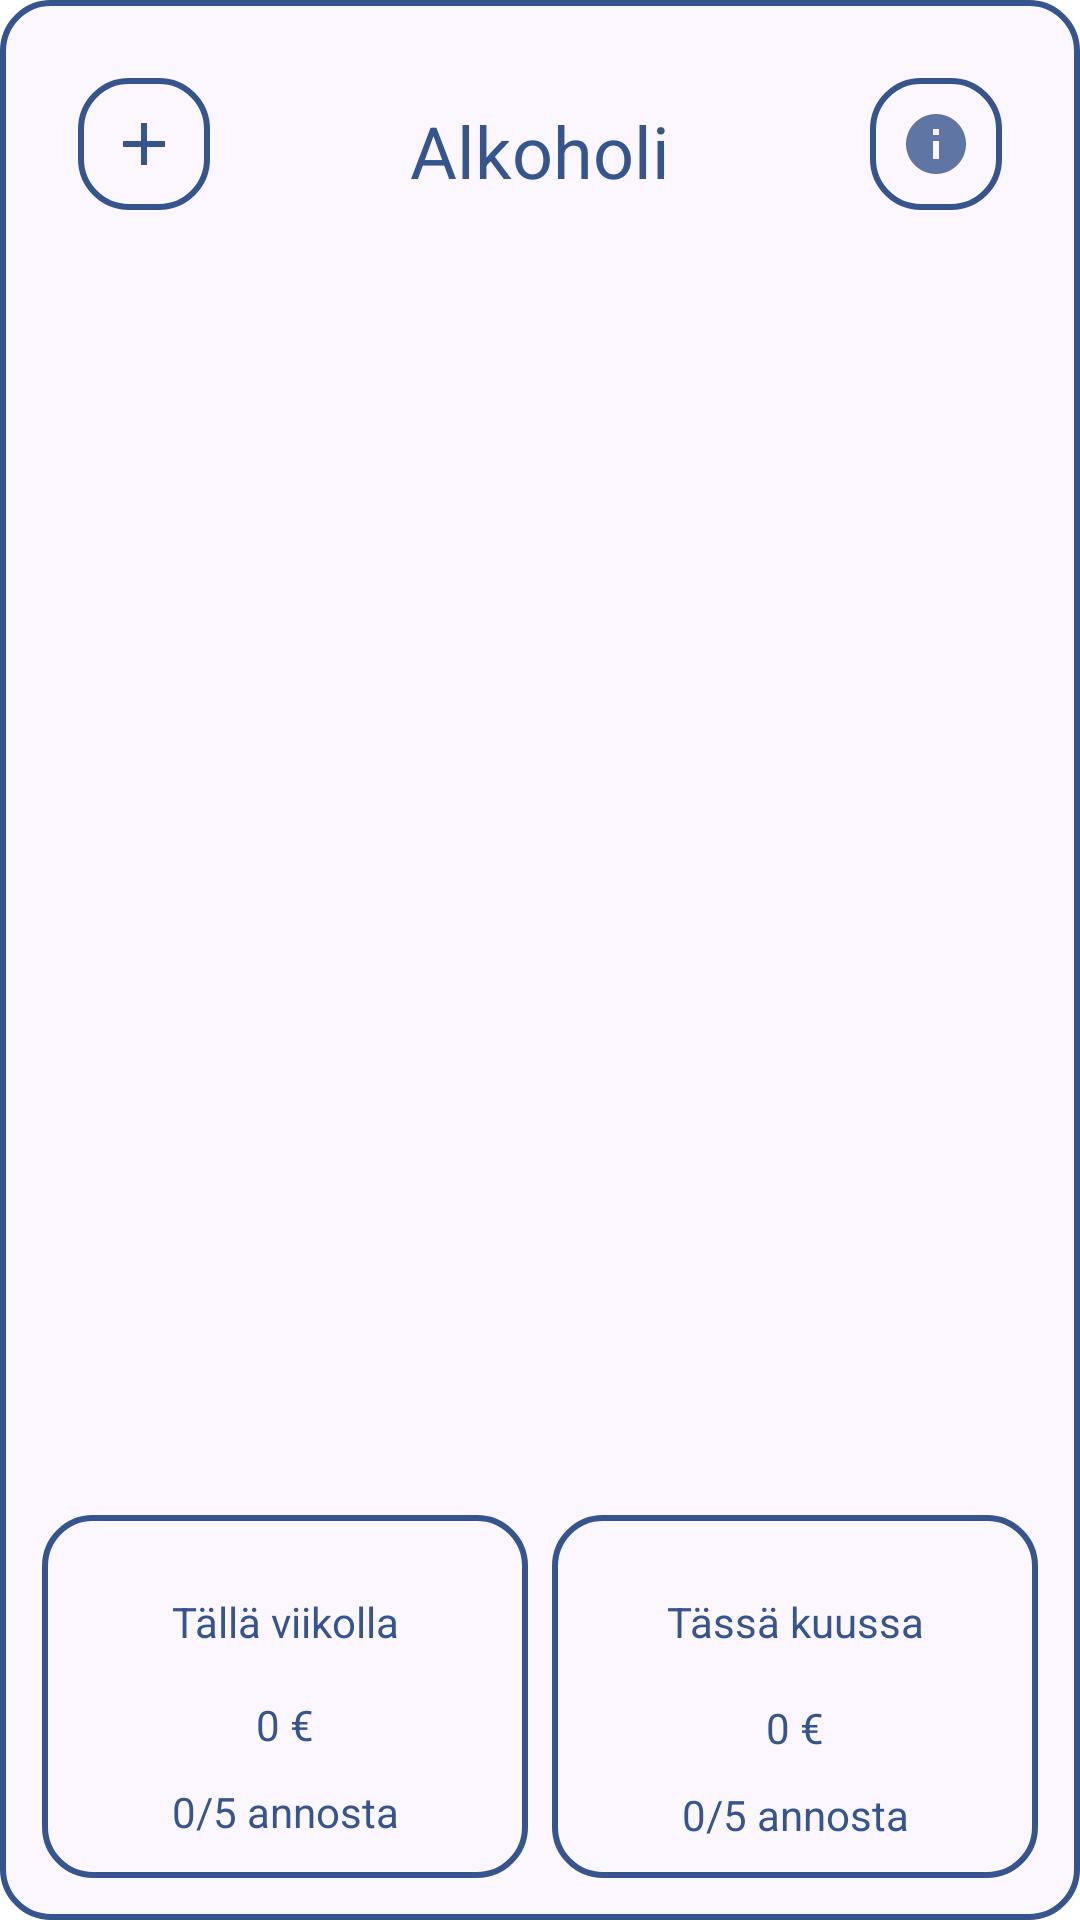

Icon click points for this 1080px x 1920px phone screenshot, format [x,y]:
add: [144,144]
information: [936,144]
